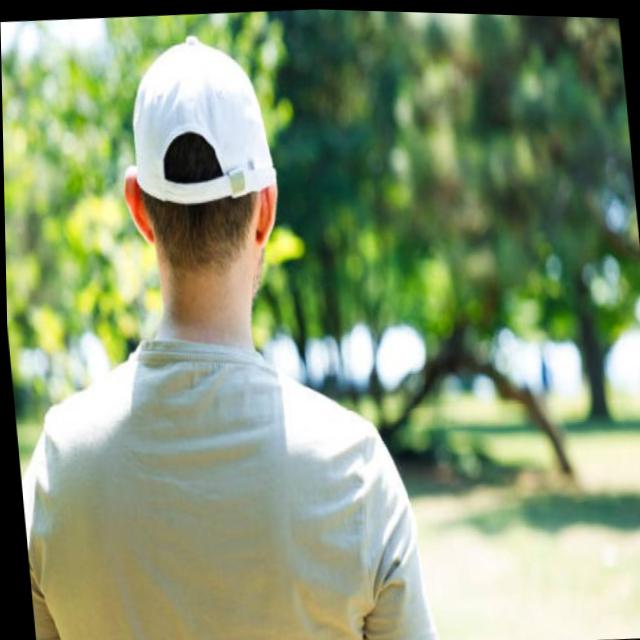no helmet: (93, 21, 301, 356)
